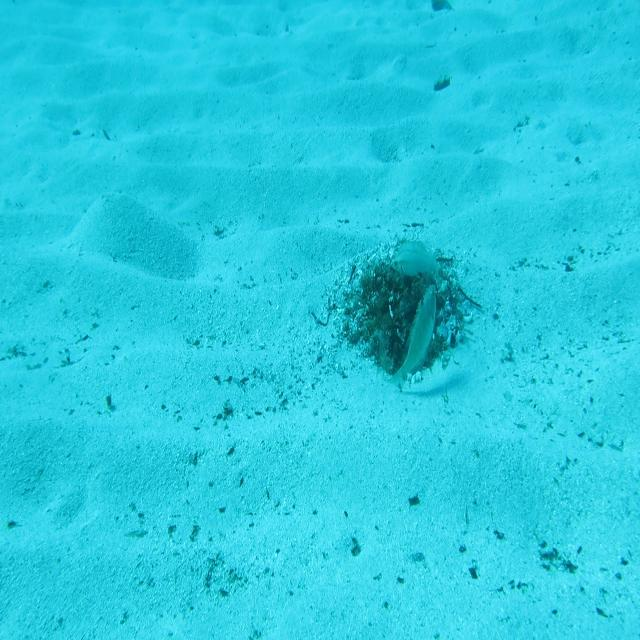GB: (386, 281, 443, 389)
female: (390, 243, 442, 296)
nest: (337, 240, 480, 385)
